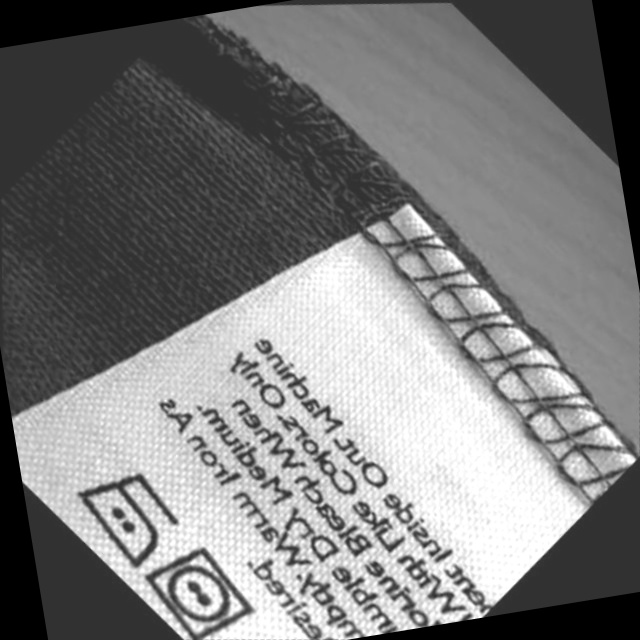iron_medium: (56, 455, 192, 582)
tumble_dry_medium: (128, 531, 266, 640)
